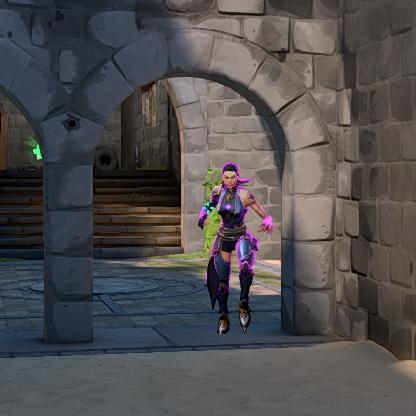enemyBody: (224, 192, 240, 231)
enemyHead: (225, 170, 235, 187)
